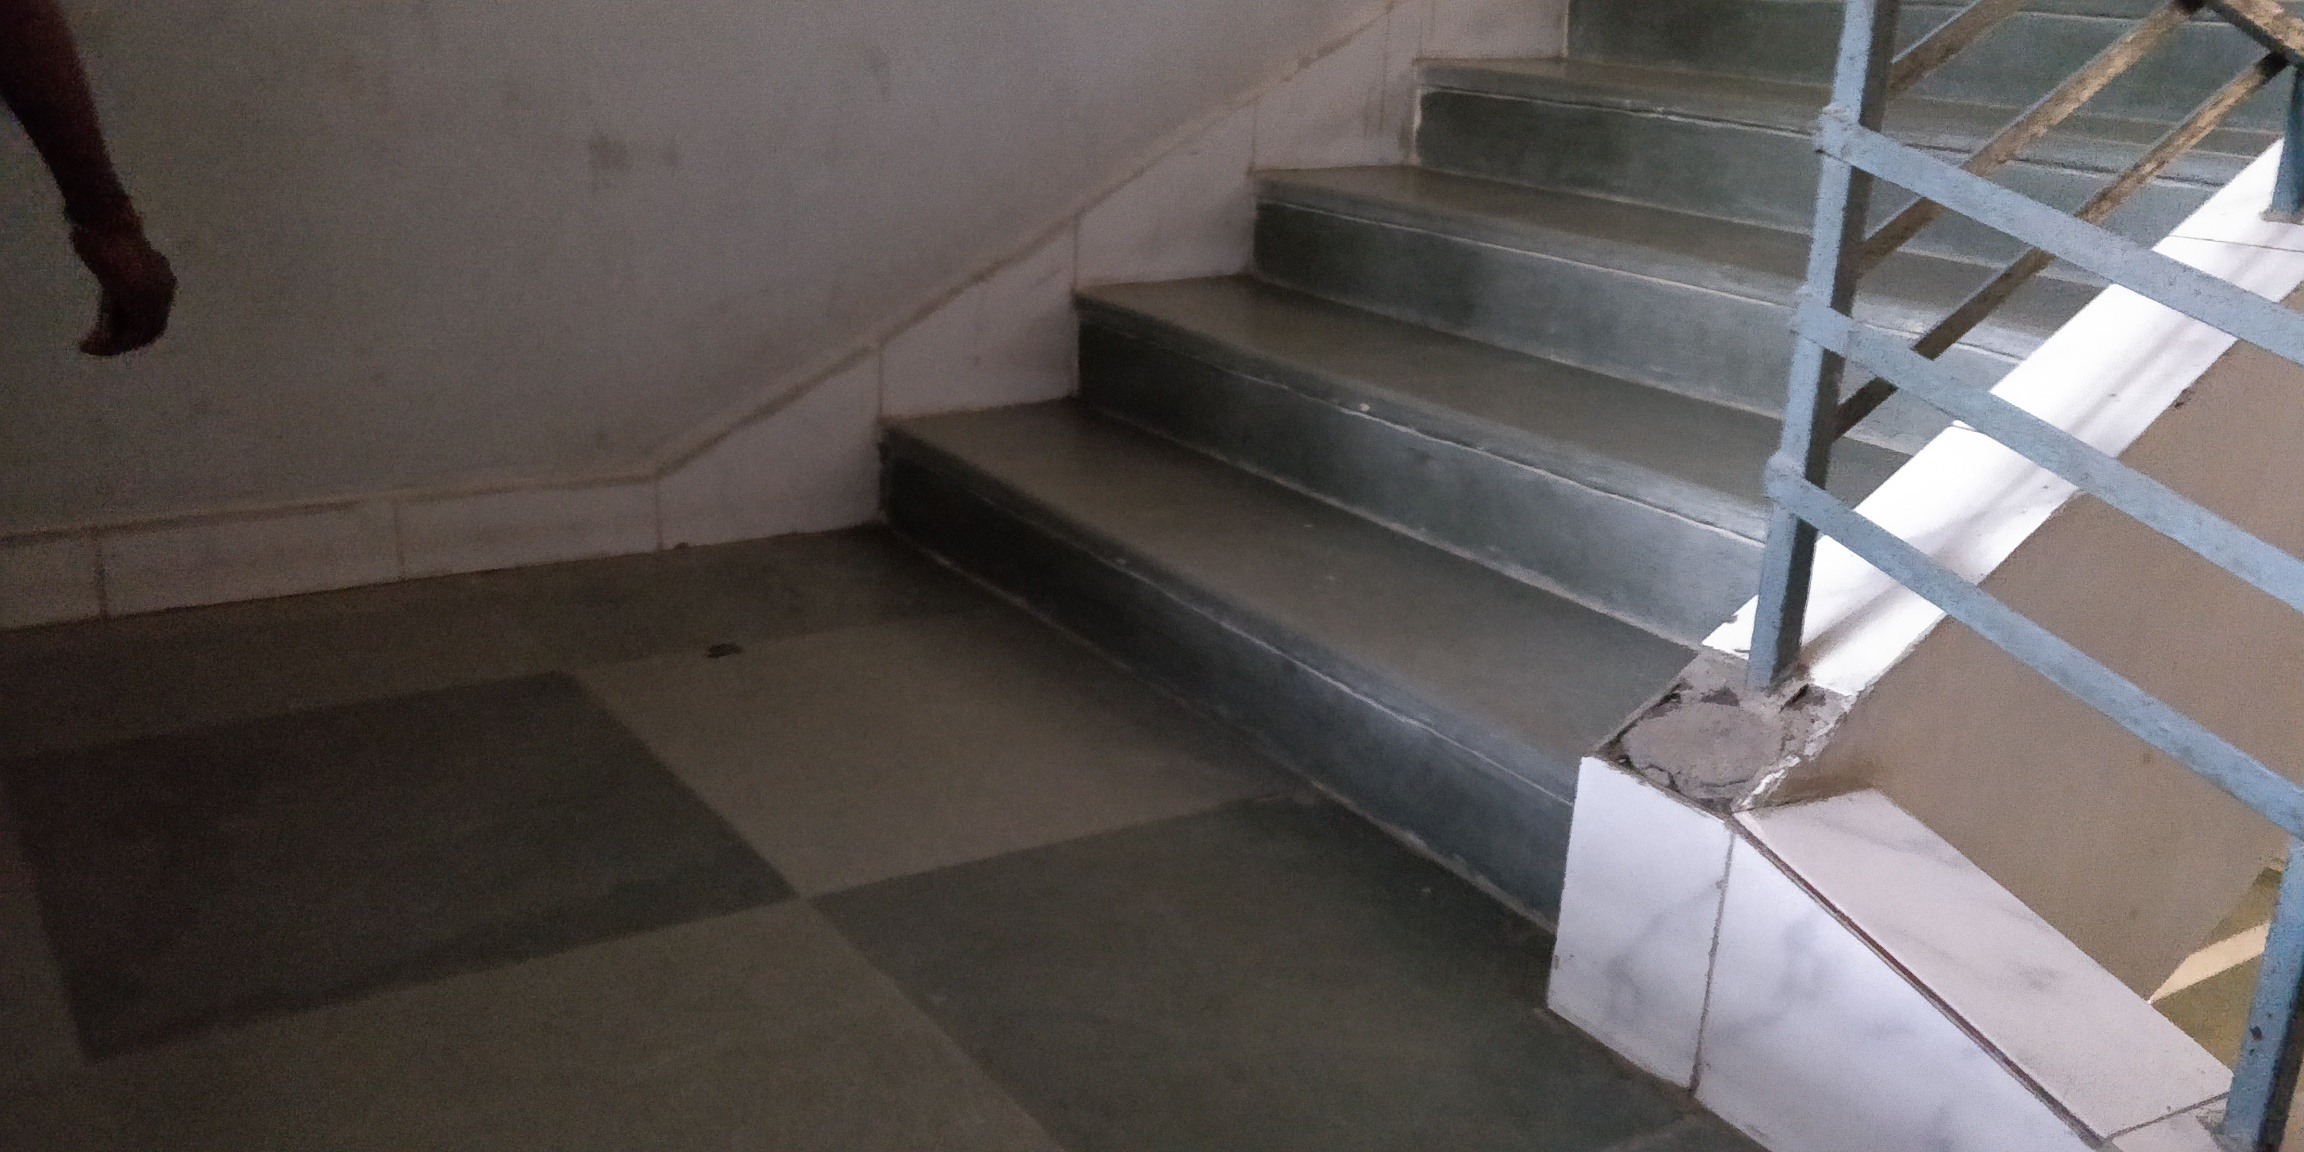stairs_up: (921, 9, 2195, 827)
